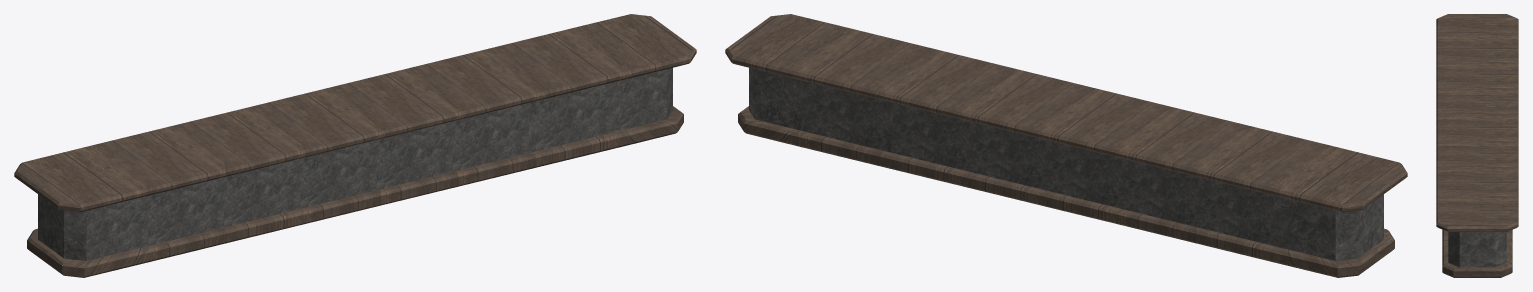
The model's file is CounterTop.fbx.
3 renders of one model, left to right at view 1: azimuth 30°, elevation 25°; view 2: azimuth 150°, elevation 25°; view 3: azimuth 270°, elevation 25°, orthographic. The views are drawn at different scales.
Parts seen in each view (by area): view 1: pCube1; view 2: pCube1; view 3: pCube1.
Part boxes in pixels (x1,y1,x2,y2): pCube1: (14, 14, 696, 277); pCube1: (725, 14, 1407, 277); pCube1: (1436, 14, 1518, 277).
Bounding box in the file's own units: 819 × 96.42 × 134.
Materials: 1 (1 with a texture image).
